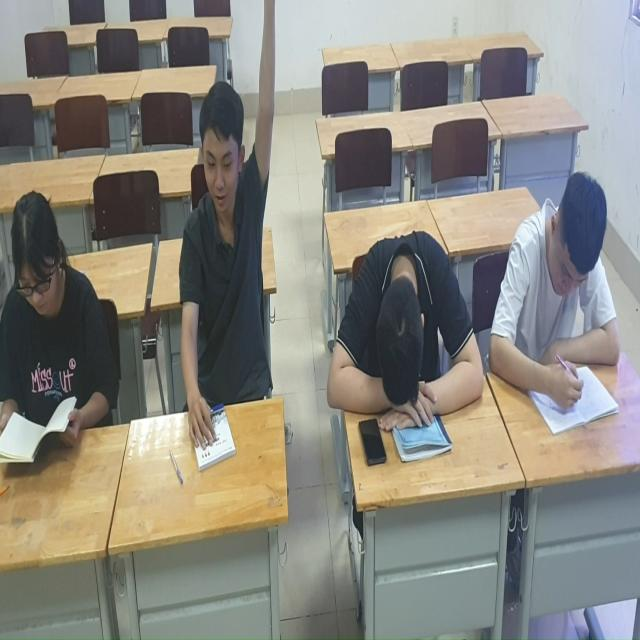raise_hand: (177, 1, 292, 447)
read: (1, 187, 128, 485), (484, 165, 623, 429)
sleep: (329, 212, 490, 459)
